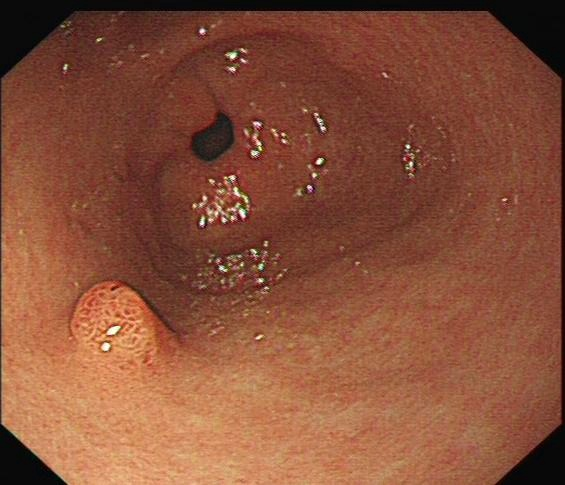Polyp: (66, 273, 174, 373)
